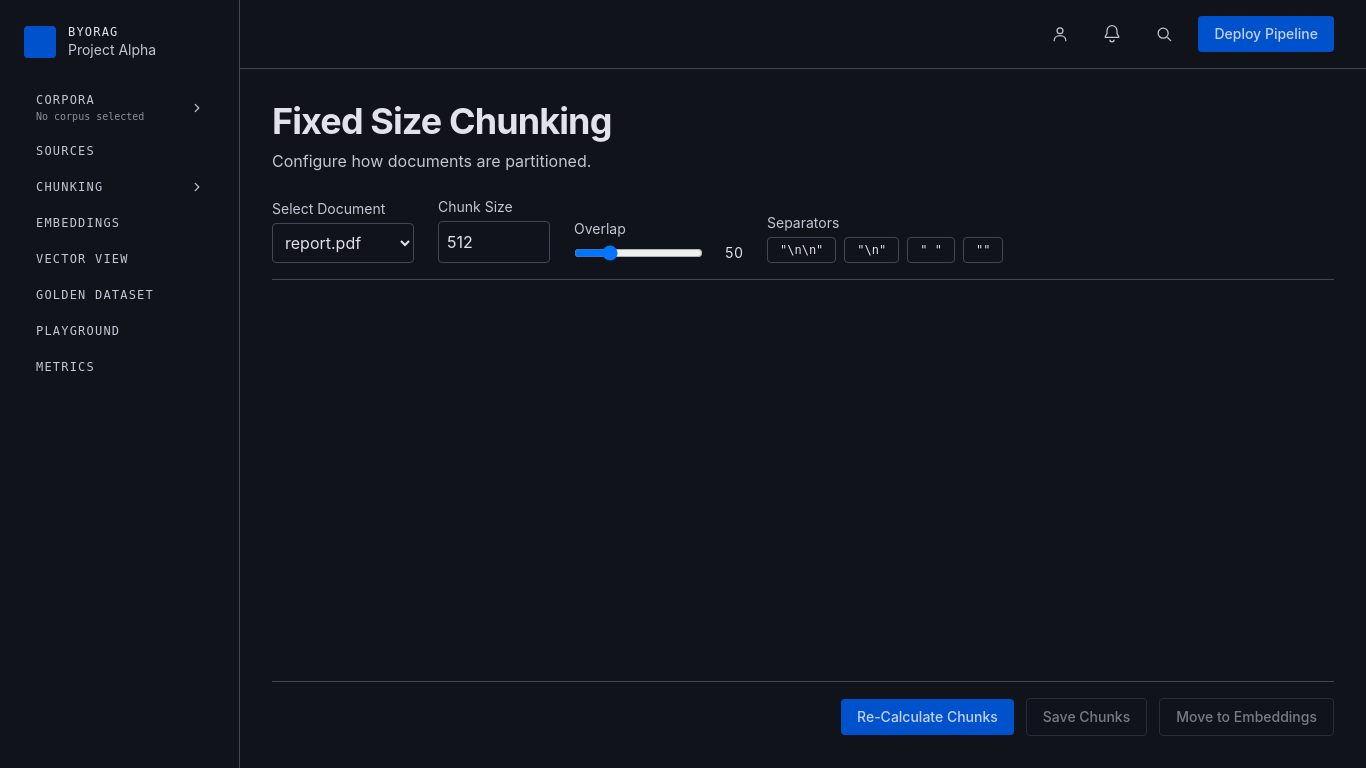
it: FixedSizeChunkingScreen — overlap readout (007-chunking-overlap-controls US1) › updates the displayed overlap number immediately when the slider changes
Set the slider labelled "Overlap" to "120" at (650, 253), box [574, 245, 703, 261]
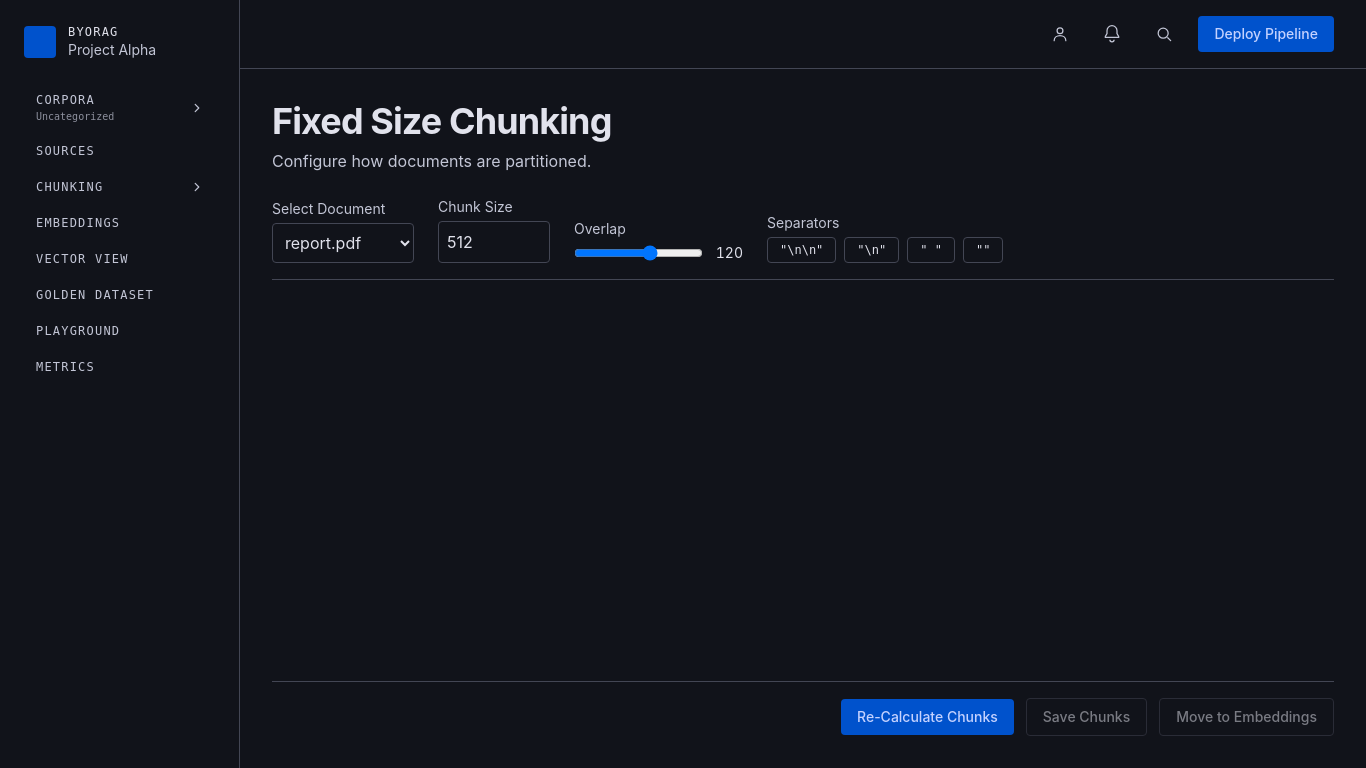
Now the text "120" is shown, box [711, 243, 743, 263]
